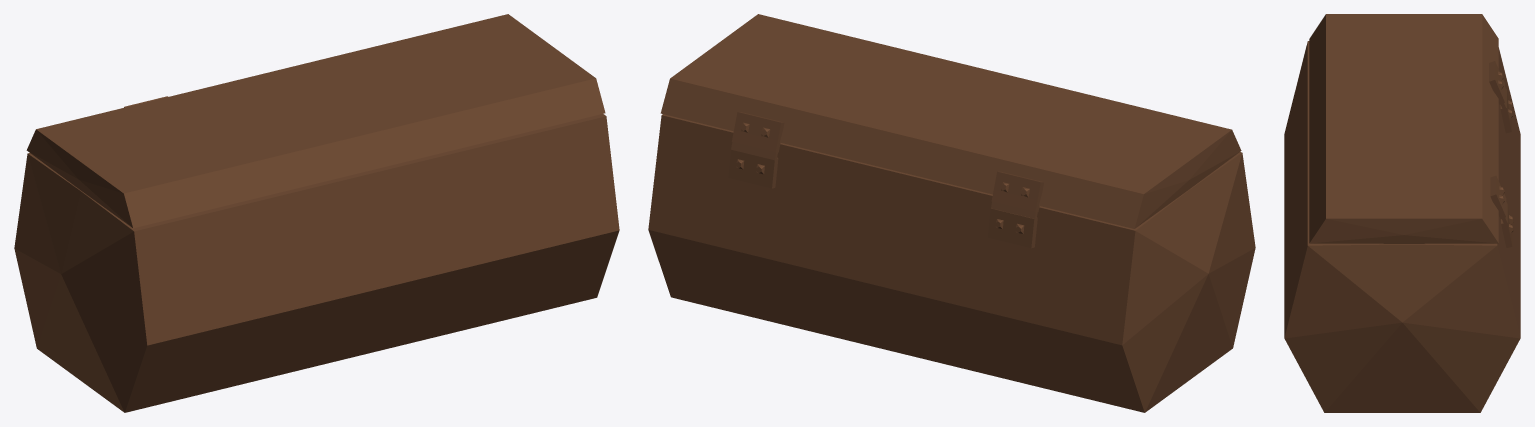
Rendered from Box_Kästchen.fbx.
3 renders of one model, left to right at view 1: azimuth 30°, elevation 25°; view 2: azimuth 150°, elevation 25°; view 3: azimuth 270°, elevation 25°, orthographic. The views are drawn at different scales.
Visible parts, largest first — view 1: Box, Box_Deckel; view 2: Box, Box_Deckel, Schloss_u_2, Schloss_u, Schloss_u_1, Schloss_u_1_2; view 3: Box, Box_Deckel, Schloss_u_2, Schloss_u, Schloss_u_1, Schloss_u_1_2.
Part boxes in pixels (bbox=[...]): Box: bbox=[14, 114, 619, 412]; Box_Deckel: bbox=[26, 14, 605, 228]; Box: bbox=[648, 114, 1255, 412]; Box_Deckel: bbox=[660, 14, 1241, 228]; Schloss_u_2: bbox=[731, 112, 784, 160]; Schloss_u: bbox=[991, 171, 1043, 218]; Schloss_u_1: bbox=[987, 208, 1037, 248]; Schloss_u_1_2: bbox=[728, 149, 778, 188]; Box: bbox=[1284, 41, 1520, 412]; Box_Deckel: bbox=[1309, 14, 1498, 243]; Schloss_u_2: bbox=[1490, 175, 1507, 223]; Schloss_u: bbox=[1489, 61, 1506, 109]; Schloss_u_1: bbox=[1500, 89, 1512, 133]; Schloss_u_1_2: bbox=[1501, 206, 1513, 247].
Bounding box in the file's own units: 217 × 88.5 × 97.49.
